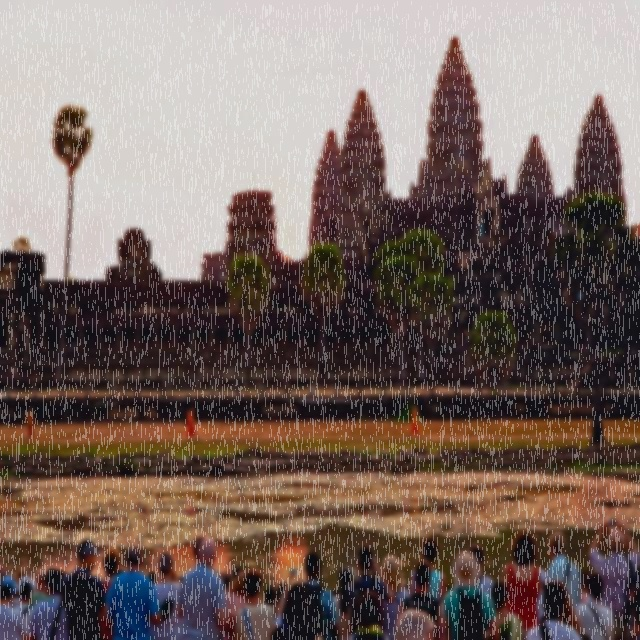pessoa: (588, 515, 639, 639), (440, 549, 502, 640), (105, 544, 162, 640), (176, 538, 229, 640), (60, 538, 110, 640), (502, 530, 544, 640), (346, 544, 396, 634), (396, 558, 448, 640), (300, 552, 339, 640), (526, 580, 582, 640), (234, 568, 278, 640), (270, 582, 324, 640), (546, 532, 584, 613), (28, 568, 69, 640), (408, 536, 449, 606), (575, 570, 615, 640), (380, 554, 412, 640), (453, 543, 494, 599), (0, 562, 48, 609), (263, 573, 304, 628), (218, 571, 250, 640), (98, 546, 120, 640), (350, 590, 390, 640), (490, 580, 522, 640), (332, 566, 357, 640), (0, 584, 31, 640), (10, 580, 36, 640), (393, 606, 438, 640), (210, 566, 243, 596), (535, 568, 548, 626), (626, 586, 639, 639), (184, 406, 200, 442), (408, 404, 424, 440), (190, 533, 206, 567), (127, 234, 141, 262), (24, 407, 34, 442), (578, 570, 592, 595), (146, 568, 160, 586), (113, 566, 126, 579), (169, 568, 178, 584), (330, 589, 340, 600), (555, 371, 561, 389)
